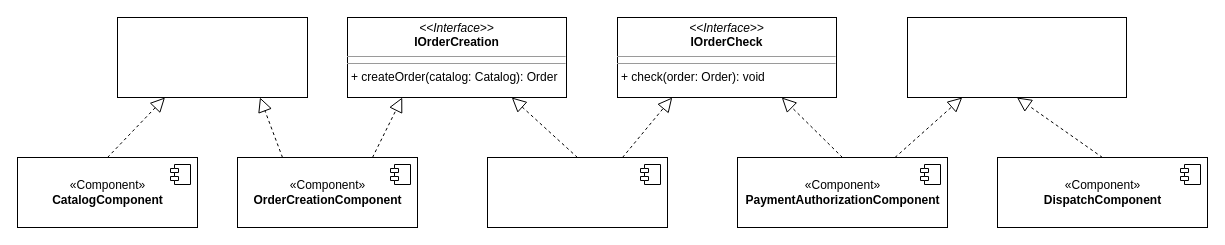
Image size: 1225x245. Some labels were removed from this diagram. Each missing label, with the centre of its shape:
"<<Interface>> ICatalog + produce(): Catalog" belongs at (212,57).
"<<Interface>> IOrderDispatcher + dispatch(order: Order): void" belongs at (1016,57).
"«Component» FraudCheckComponent" belongs at (577,192).
